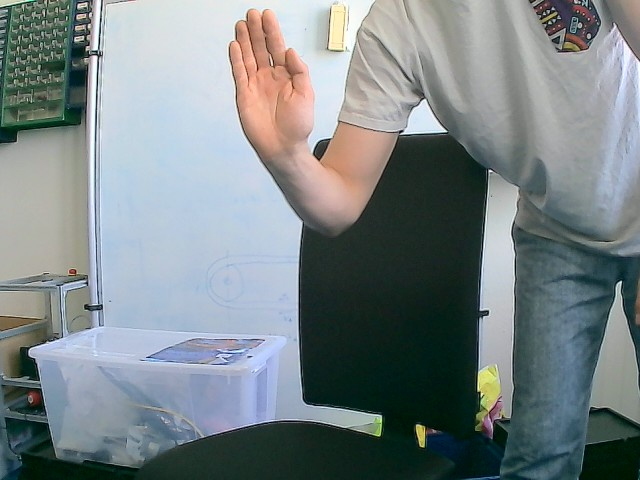stop: (227, 7, 316, 160)
